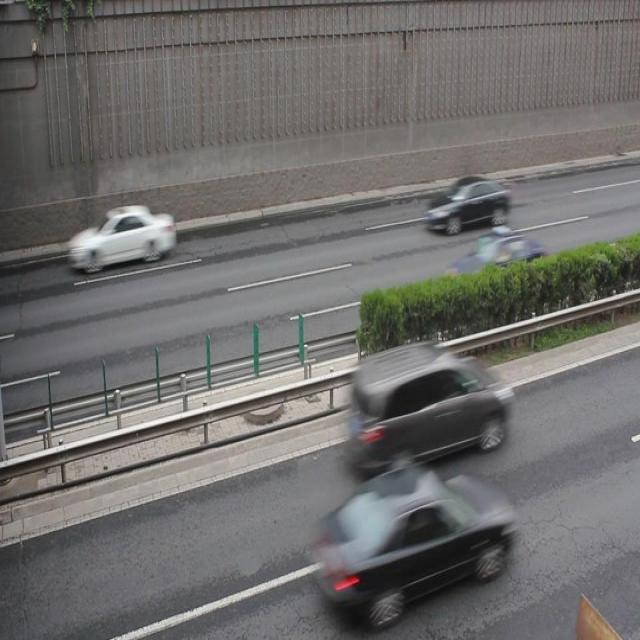car: (311, 462, 512, 622), (442, 228, 548, 308), (67, 200, 176, 274), (424, 172, 511, 232)
truck: (344, 344, 504, 467)
